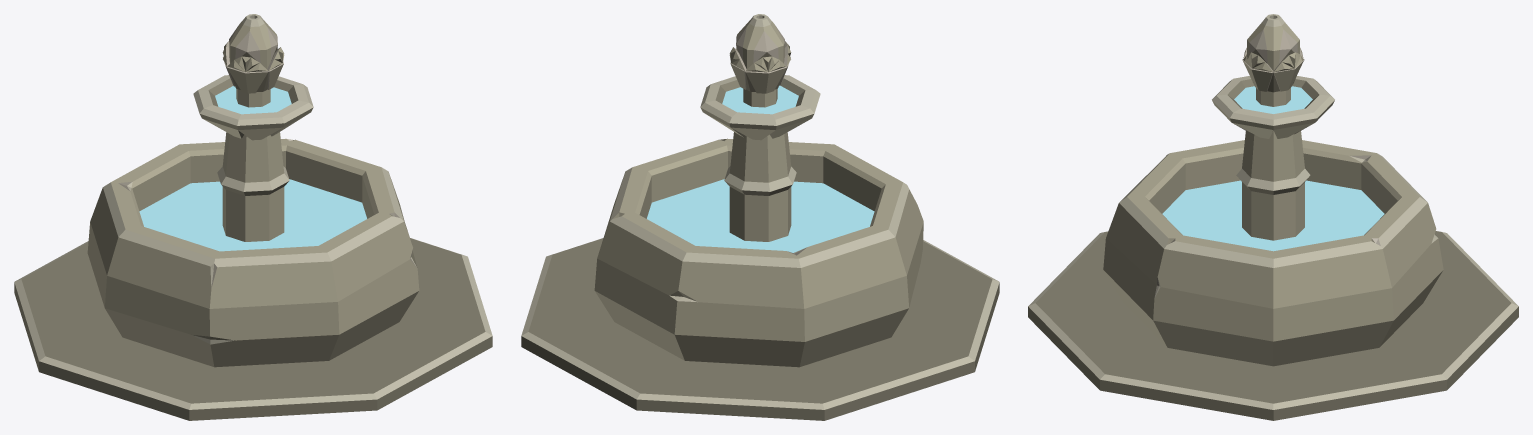
The model's file is fountain-03.glb.
3 views of the same model, side by side, from view 1: azimuth 30°, elevation 25°; view 2: azimuth 150°, elevation 25°; view 3: azimuth 270°, elevation 25° (orthographic).
Visible parts, largest first — view 1: Fountain_03; view 2: Fountain_03; view 3: Fountain_03.
Boxes of the visible parts, bbox=[...] form: Fountain_03: bbox=[14, 14, 492, 420]; Fountain_03: bbox=[521, 14, 999, 420]; Fountain_03: bbox=[1028, 14, 1518, 420].
Size of what is drawn, in the model's own units: 4.48 by 3.02 by 4.48.
Materials: 1 (1 with a texture image).
